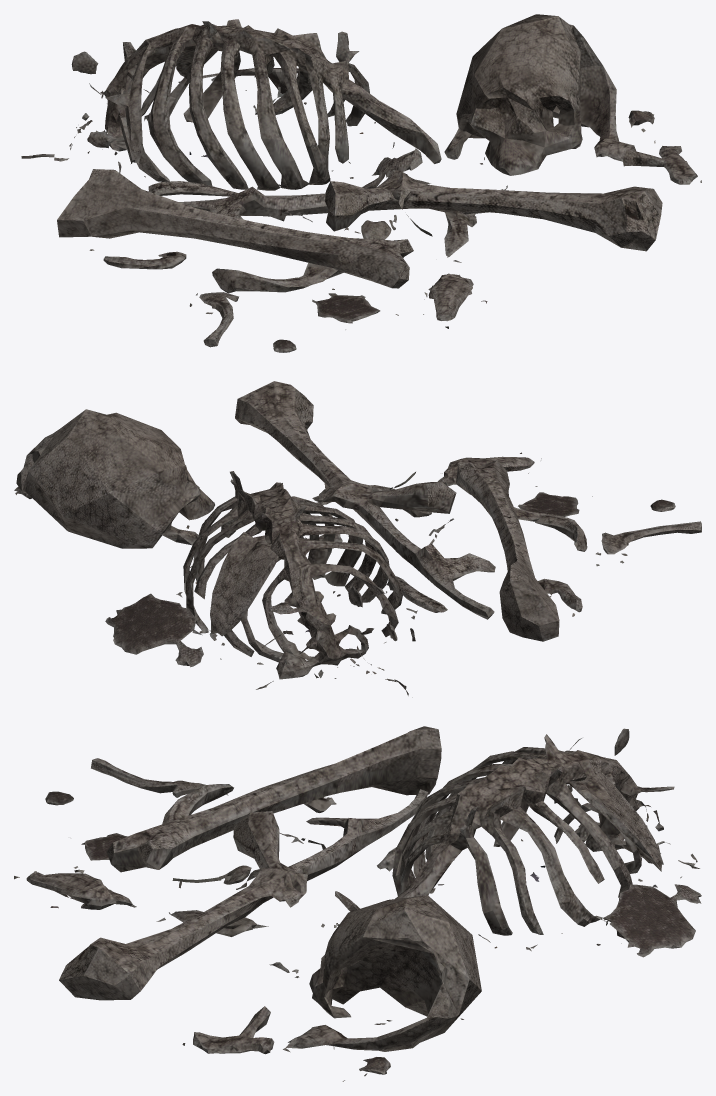
File: b6-bones.glb
3 renders of one model, top to bottom at view 1: azimuth 30°, elevation 25°; view 2: azimuth 150°, elevation 25°; view 3: azimuth 270°, elevation 25°, orthographic. The views are drawn at different scales.
Size of the model in its own units: 1.76 by 0.4155 by 1.66.
1 material, 1 textured.
